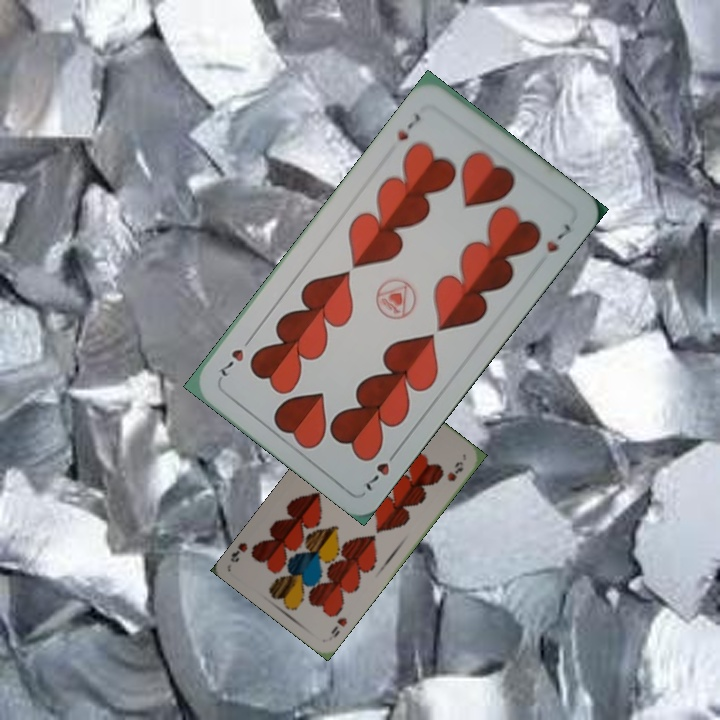H7: (361, 444, 402, 494), (393, 109, 424, 144)
H9: (327, 613, 350, 640)
